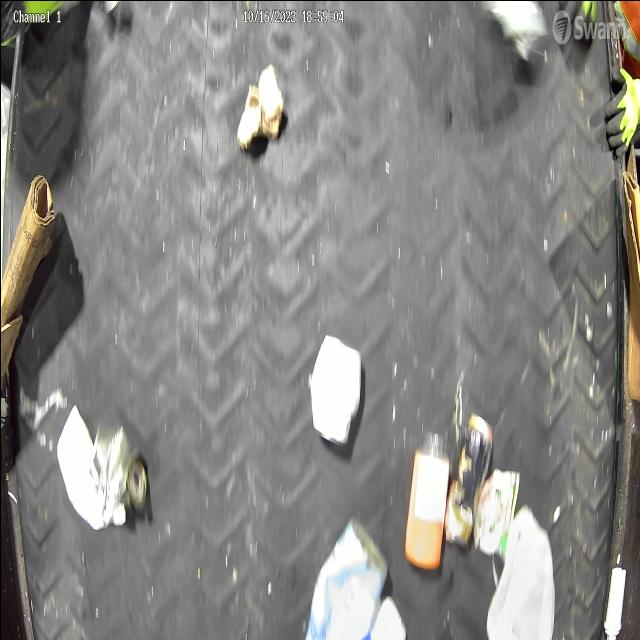can: (444, 411, 492, 548), (309, 332, 362, 447), (90, 419, 148, 512)
milk_jug: (484, 501, 555, 640)
non_white_jug: (304, 517, 387, 640)
